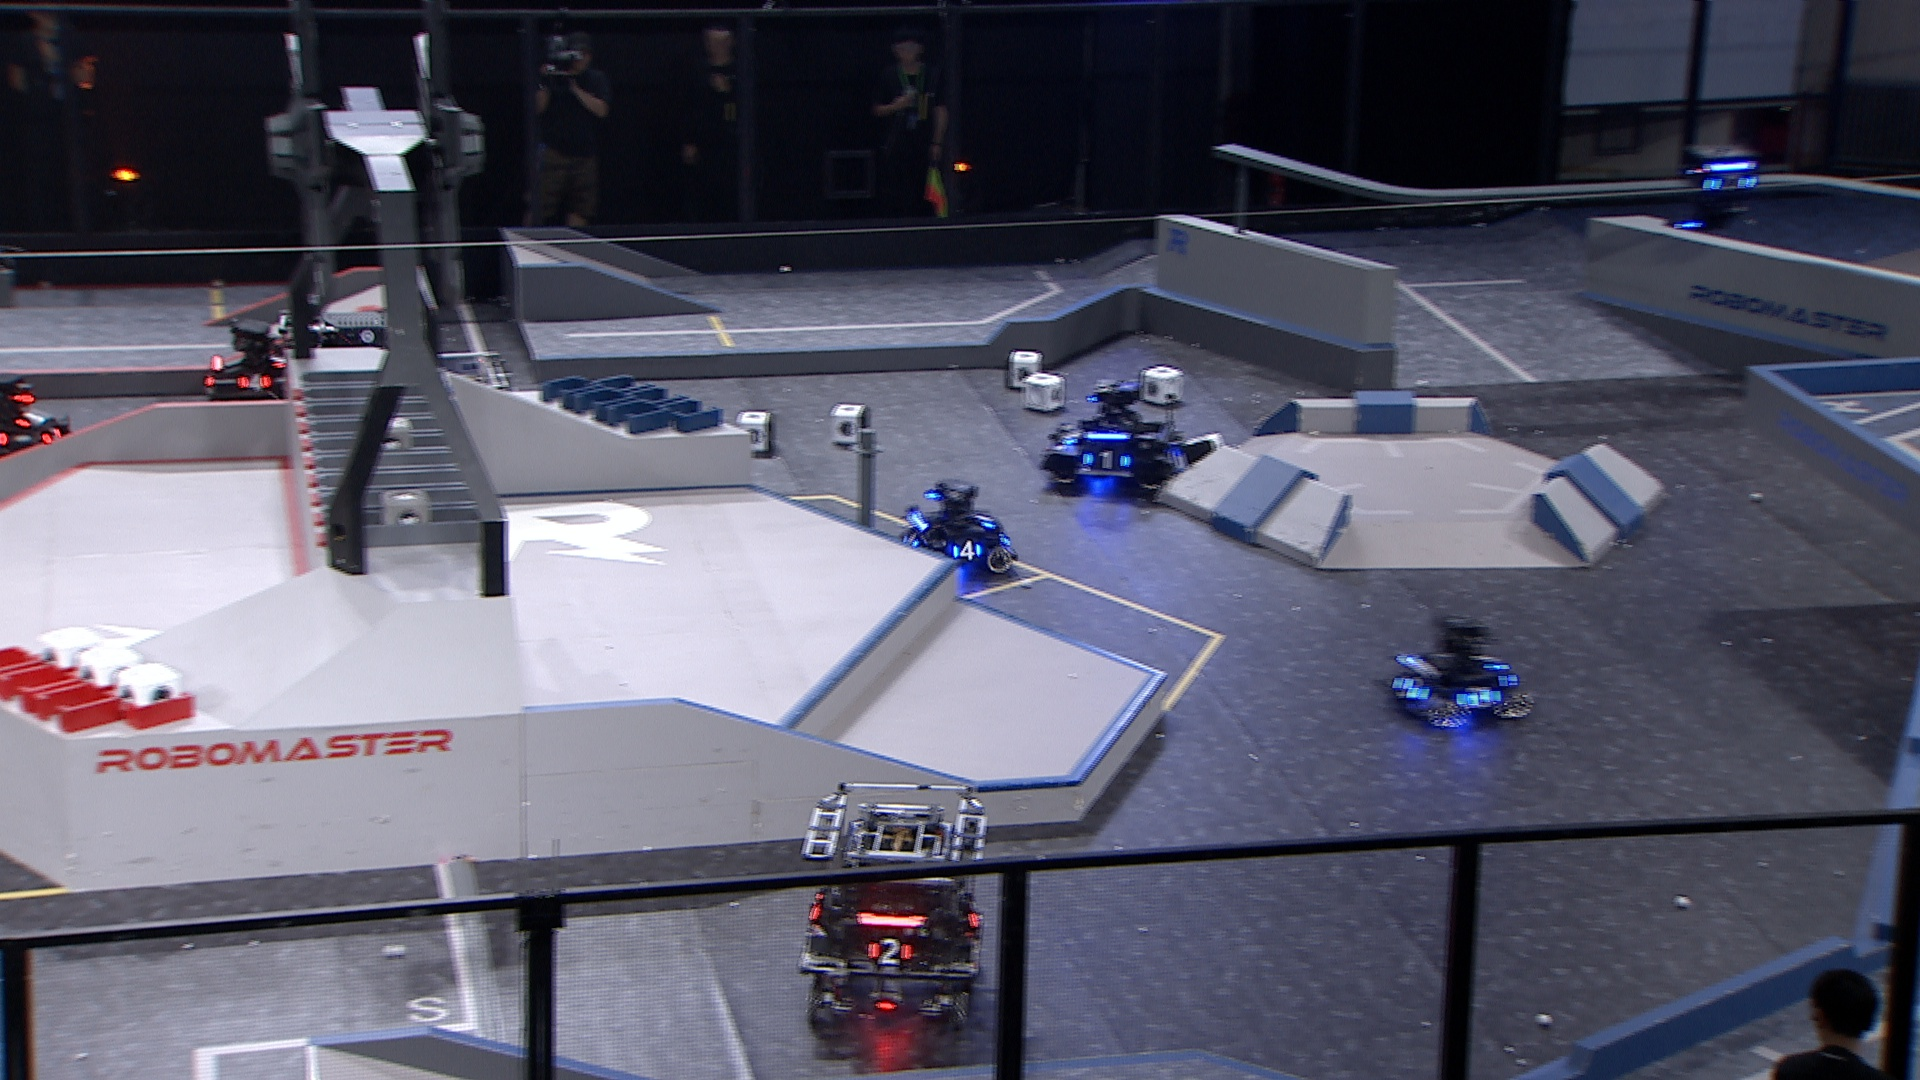armor: (869, 939, 910, 967), (1702, 173, 1755, 193), (1083, 451, 1127, 473), (1461, 684, 1499, 709), (1390, 673, 1422, 698), (34, 427, 65, 450), (951, 541, 982, 562), (1059, 425, 1084, 451), (239, 372, 272, 392), (1167, 446, 1188, 473), (1477, 650, 1501, 673), (975, 506, 996, 531), (16, 410, 44, 429), (903, 531, 922, 550), (269, 352, 286, 372)
car: (803, 778, 989, 1040), (1040, 376, 1193, 505), (272, 295, 400, 433), (1382, 609, 1531, 727), (200, 315, 315, 429), (893, 481, 1017, 583), (429, 342, 534, 450)
watcher: (1673, 138, 1760, 235)
